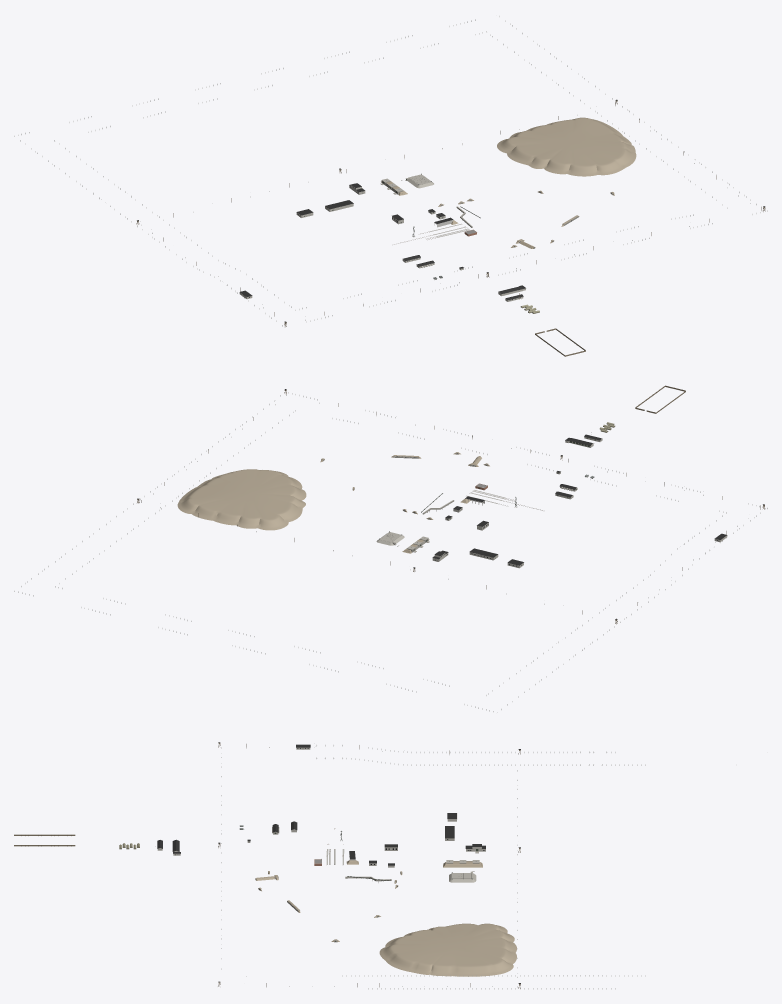
3 views of the same model, one above another, from view 1: azimuth 30°, elevation 25°; view 2: azimuth 150°, elevation 25°; view 3: azimuth 270°, elevation 25° (orthographic).
Parts seen in each view (by area): view 1: SpoilHeap_Earth; view 2: SpoilHeap_Earth; view 3: SpoilHeap_Earth.
Part boxes in pixels (x1,y1,x2,y2): SpoilHeap_Earth: (497, 117, 636, 176); SpoilHeap_Earth: (177, 469, 306, 530); SpoilHeap_Earth: (379, 923, 516, 976).
Size of the model in its own units: 922 by 34.08 by 1221.
